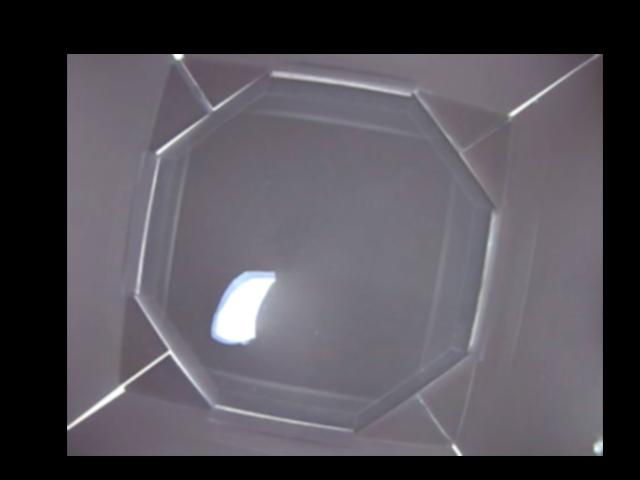China: (206, 265, 277, 344)
